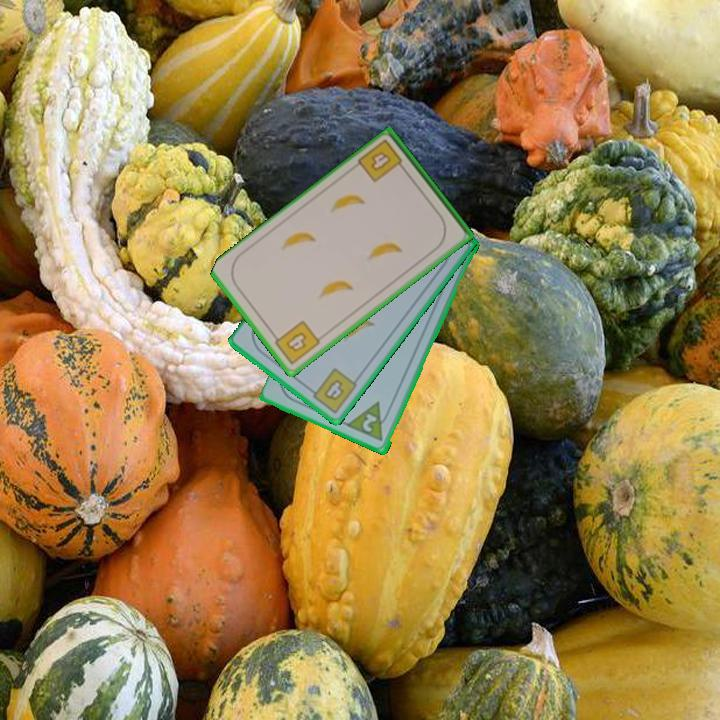2p: (345, 399, 395, 445)
4b: (305, 364, 360, 417), (269, 317, 323, 368), (355, 136, 409, 186)
